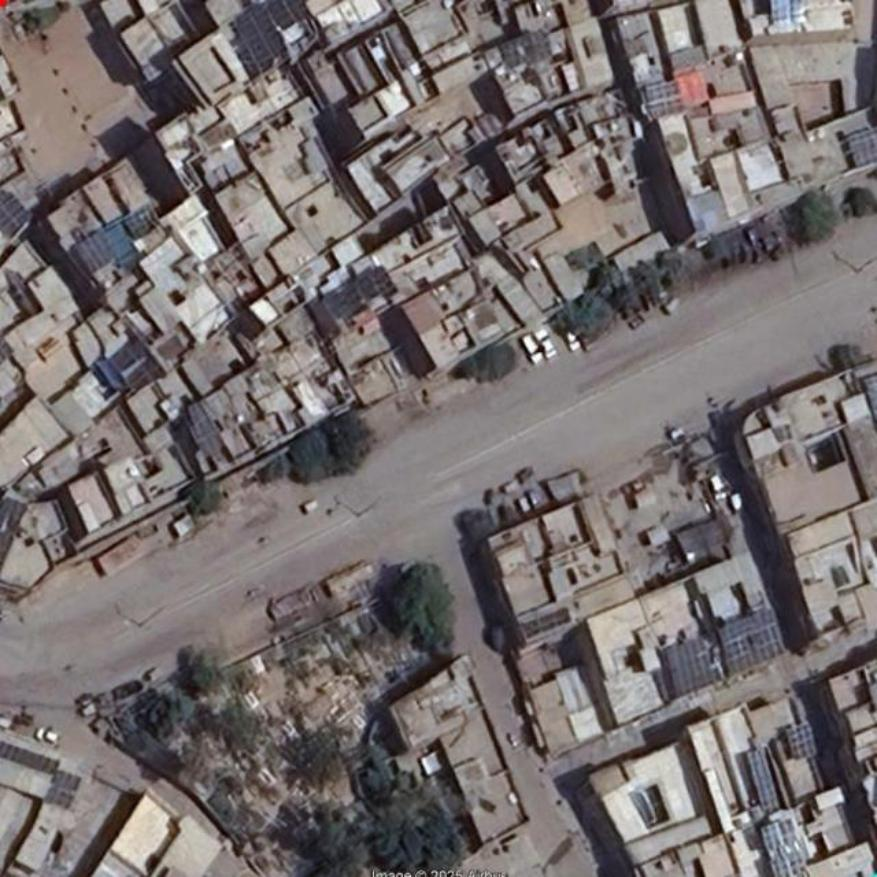Solarpanel: (717, 608, 789, 679), (661, 634, 724, 700), (759, 813, 810, 876), (744, 744, 782, 813), (0, 186, 35, 239), (644, 80, 688, 122), (786, 721, 821, 763), (843, 128, 876, 169), (522, 610, 569, 638), (768, 0, 804, 21)
